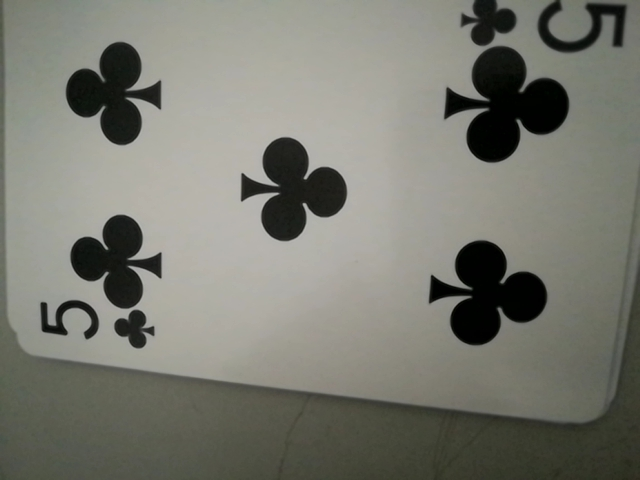mh 5: (461, 0, 628, 54), (30, 295, 160, 358)
